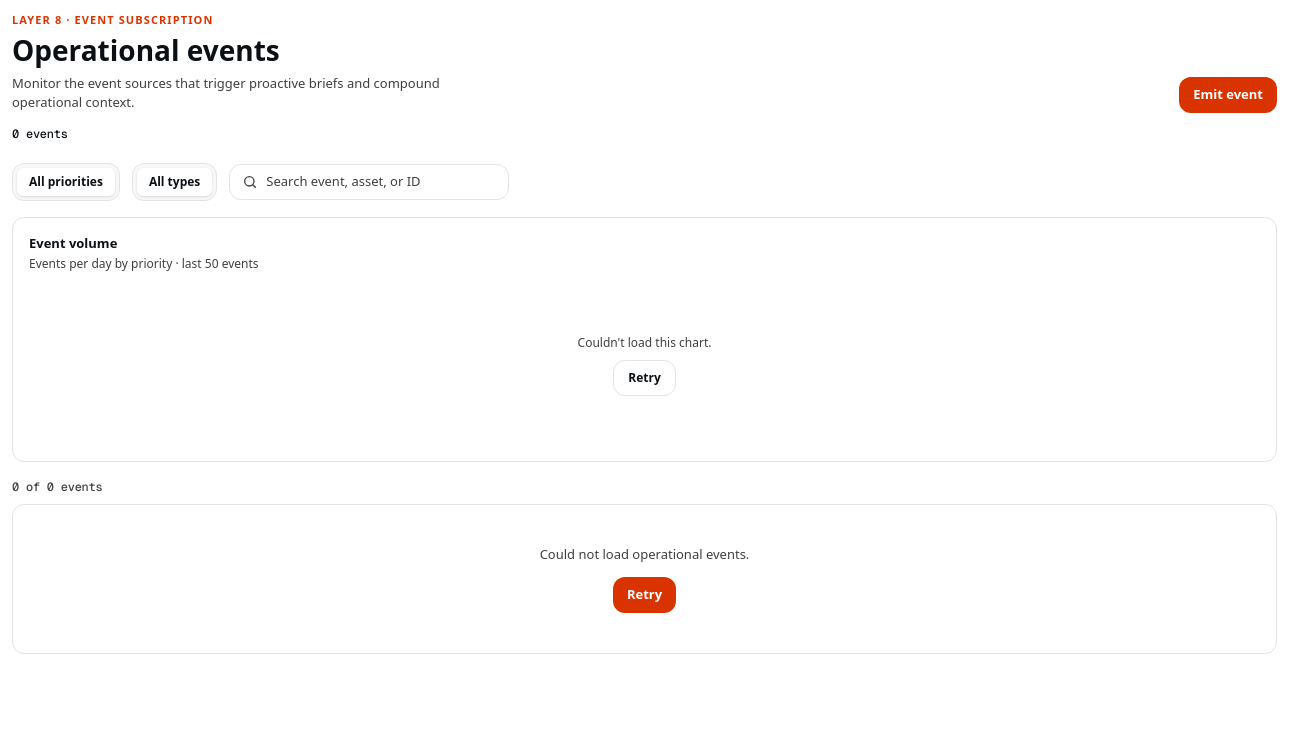
Test: EventsPage › shows an error surface with retry
The image size is (1292, 732).
Expected: the text "Could not load operational events." is shown, [540,545,749,564]
Click the button "Retry" below "Couldn't load this chart." at (645, 378), box [613,360,676,396]
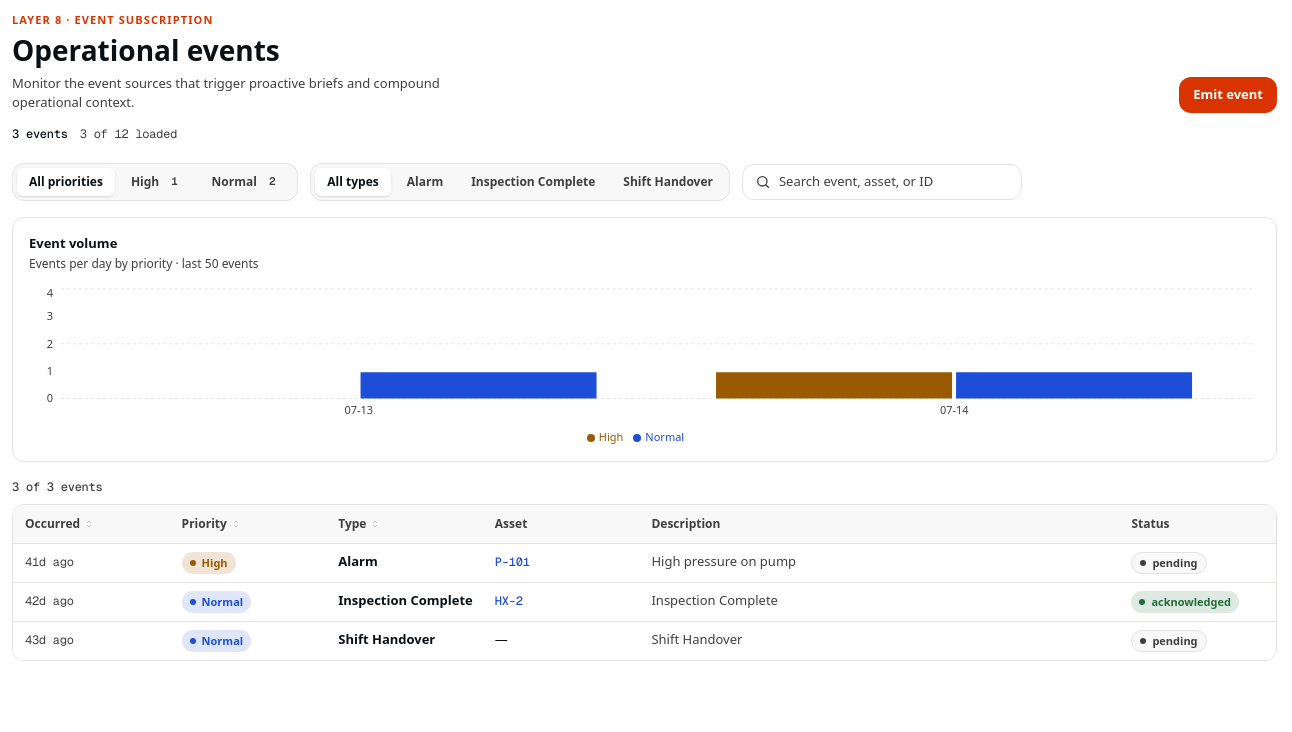
Expected: the text "High pressure on pump" is shown, [651,552,796,570]
